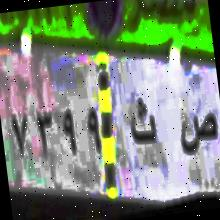3: (33, 105, 58, 165)
7: (8, 105, 34, 168)
9: (83, 97, 106, 159), (60, 97, 82, 157)
saad: (174, 96, 220, 162)
thaa: (122, 91, 162, 159)
